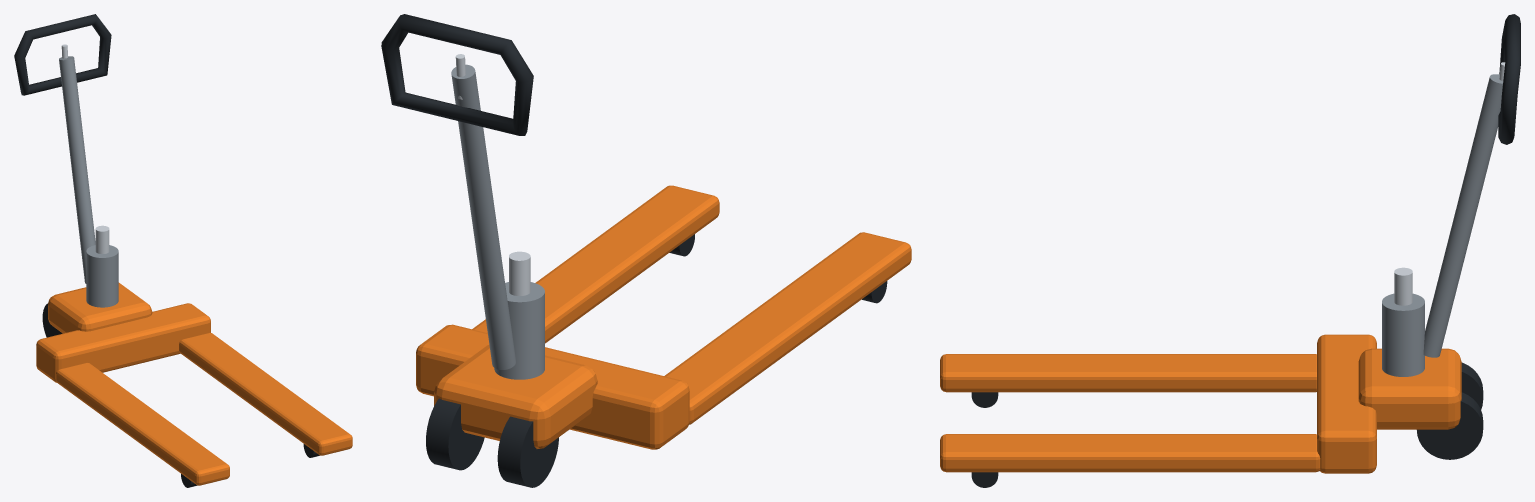
The model's file is manual-pallet-jack.glb.
3 renders of one model, left to right at view 1: azimuth 30°, elevation 25°; view 2: azimuth 150°, elevation 25°; view 3: azimuth 270°, elevation 25°, orthographic. The views are drawn at different scales.
Visible parts, largest first — view 1: Fork bridge, Fork.001, Fork, Handle shaft, Pump mounting frame, Handle loop, Hydraulic pump, Piston; view 2: Fork, Fork.001, Fork bridge, Pump mounting frame, Handle shaft, Handle loop, Hydraulic pump, Steer wheel, Steer wheel.001, Piston; view 3: Fork.001, Fork, Fork bridge, Pump mounting frame, Handle shaft, Hydraulic pump, Steer wheel.001, Handle loop, Piston, Steer wheel.
Boxes of the visible parts, x1,y1,x2,y2 form: Fork bridge: [36, 303, 210, 382]; Fork.001: [179, 332, 352, 455]; Fork: [56, 362, 229, 485]; Handle shaft: [59, 56, 95, 283]; Pump mounting frame: [48, 282, 152, 333]; Handle loop: [14, 14, 111, 95]; Hydraulic pump: [86, 245, 118, 307]; Piston: [95, 225, 109, 253]; Fork: [664, 232, 911, 424]; Fork.001: [472, 185, 719, 343]; Fork bridge: [416, 324, 689, 449]; Pump mounting frame: [434, 345, 597, 448]; Handle shaft: [451, 64, 515, 369]; Handle loop: [381, 14, 533, 135]; Hydraulic pump: [494, 282, 544, 379]; Steer wheel: [497, 416, 558, 487]; Steer wheel.001: [426, 398, 484, 470]; Piston: [509, 251, 530, 295]; Fork.001: [940, 434, 1320, 472]; Fork: [940, 354, 1316, 392]; Fork bridge: [1317, 334, 1376, 473]; Pump mounting frame: [1358, 348, 1461, 429]; Handle shaft: [1423, 74, 1503, 357]; Hydraulic pump: [1382, 293, 1424, 376]; Steer wheel.001: [1417, 392, 1483, 459]; Handle loop: [1498, 14, 1520, 144]; Piston: [1394, 267, 1412, 305]; Steer wheel: [1461, 362, 1483, 409].
Size of the model in its own units: 0.73 by 1.34 by 1.75.
